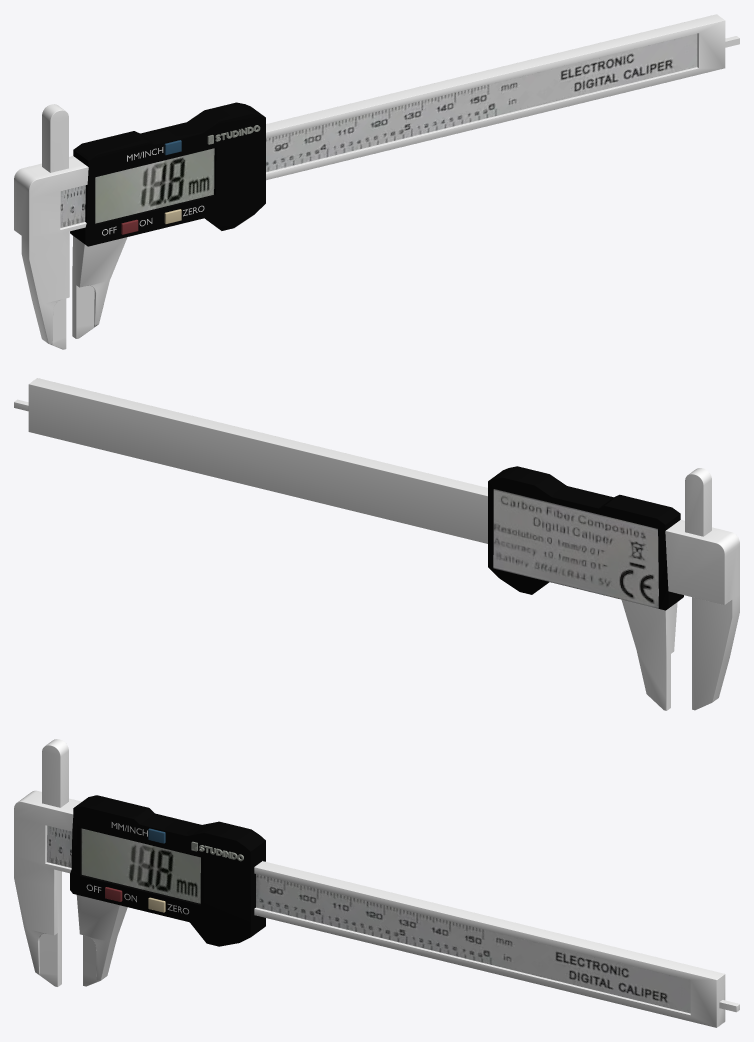
3 views of the same model, one above another, from view 1: azimuth 30°, elevation 25°; view 2: azimuth 150°, elevation 25°; view 3: azimuth 330°, elevation 25° (orthographic).
Visible parts, largest first — view 1: Digital Caliper; view 2: Digital Caliper; view 3: Digital Caliper.
Part boxes in pixels (x1,y1,x2,y2): Digital Caliper: [14, 14, 739, 349]; Digital Caliper: [14, 378, 739, 710]; Digital Caliper: [14, 739, 739, 1027].
Size of the model in its own units: 0.25 by 0.08 by 0.01.
10 materials, 3 textured.
